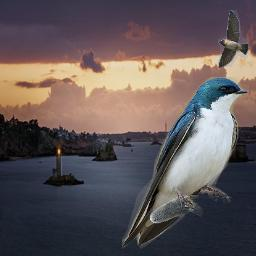Swallow: (122, 77, 249, 249), (218, 10, 249, 68)
